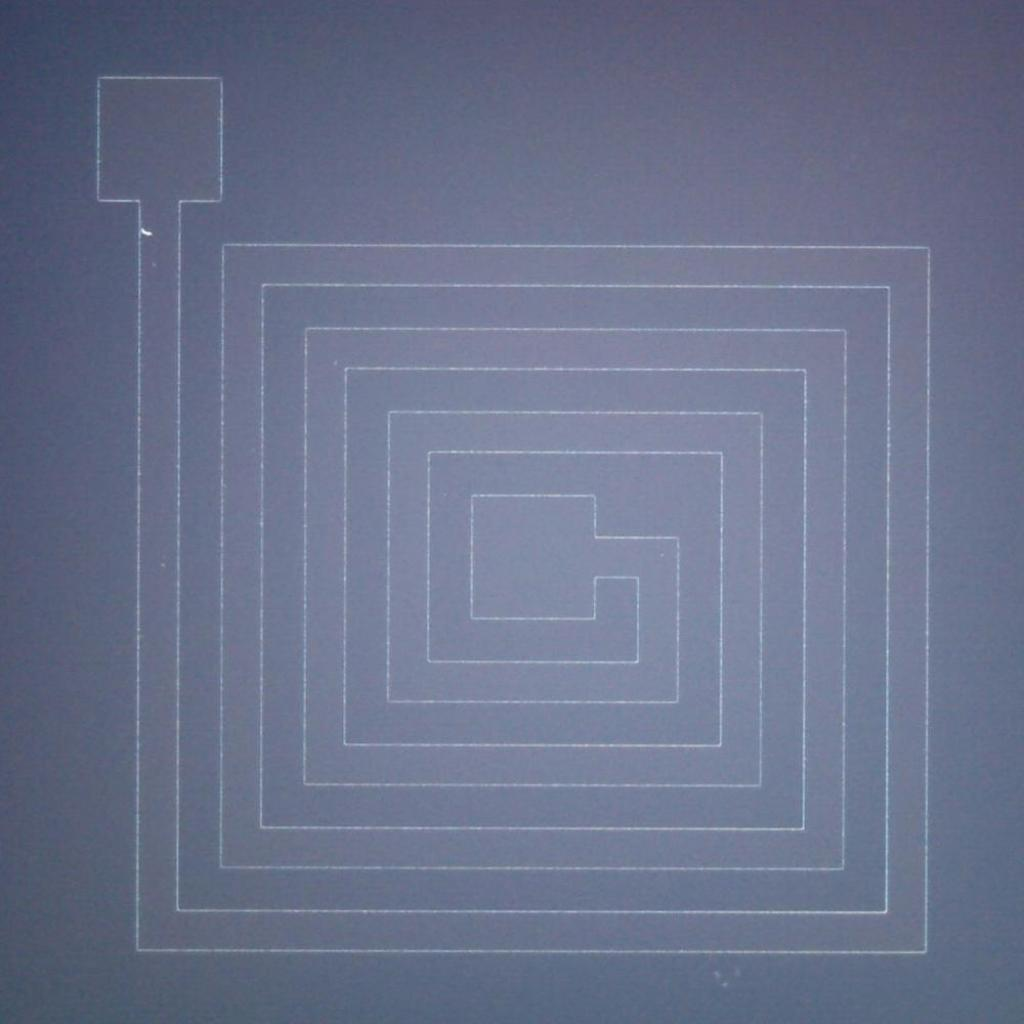dot: (142, 227, 152, 237), (714, 970, 722, 978), (722, 981, 729, 988)
